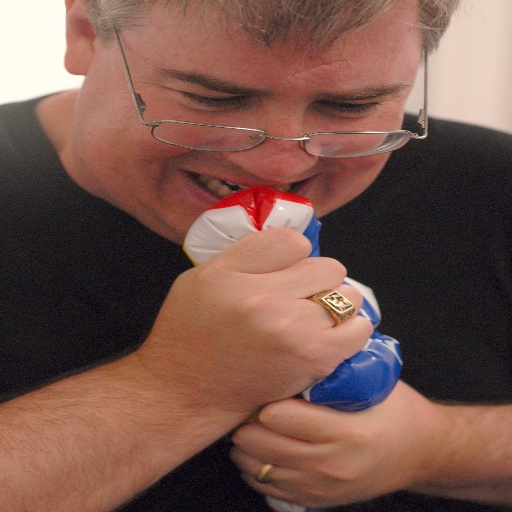hand: (143, 225, 373, 401), (188, 376, 485, 505)
